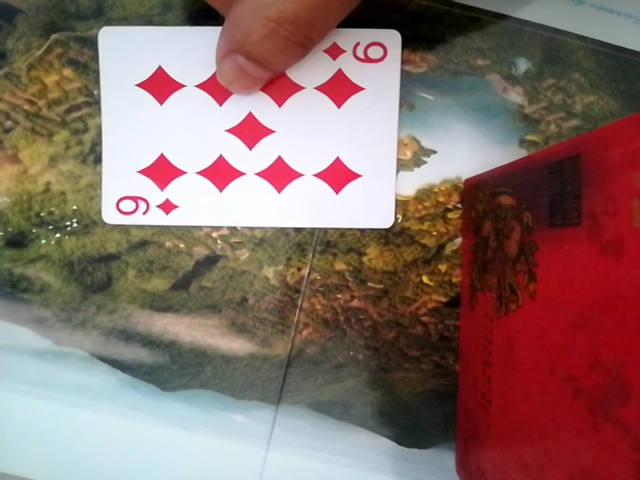fk 9: (90, 20, 410, 232)
